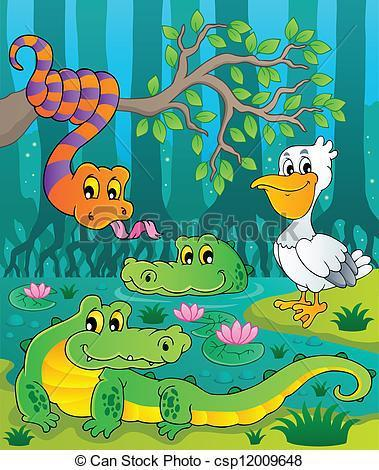bird: (244, 134, 373, 332)
